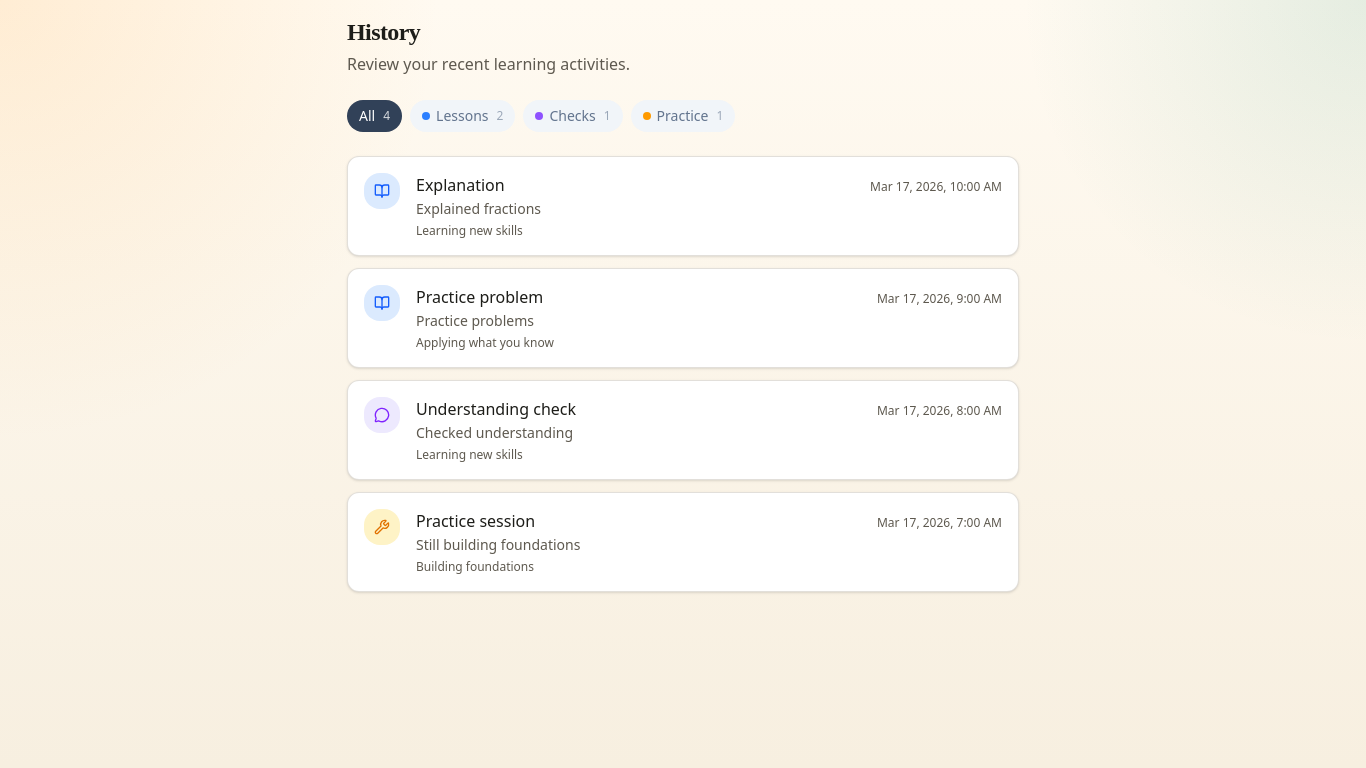
History › filters to only practice when Practice tab clicked
What coordinates should you click on to do the following:
click the tab "Practice 1"
I would click on:
 (683, 116)
Its box is [631,100,735,132].
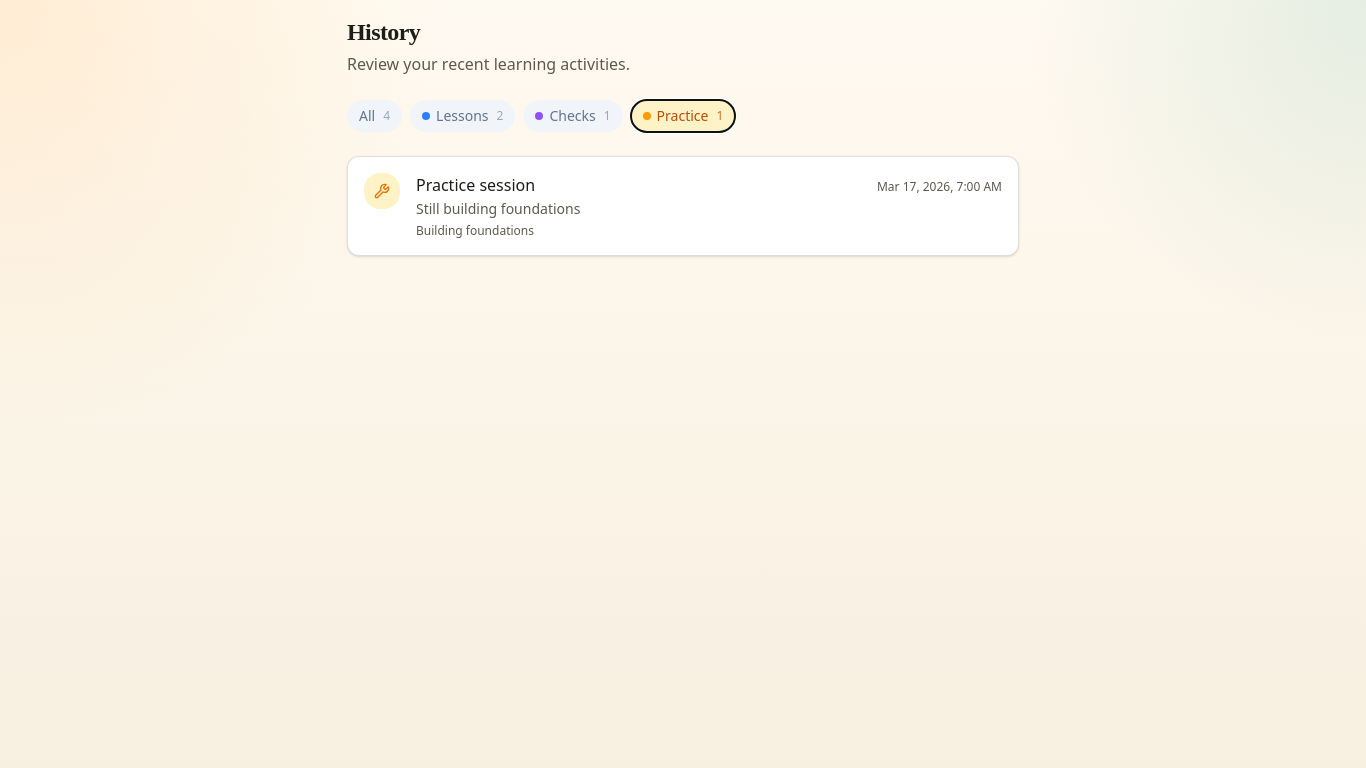
Check: the text "Still building foundations" is shown, box [416,199,580,218]
Check: the text "Explained fractions" is gone
Check: the text "Checked understanding" is gone
